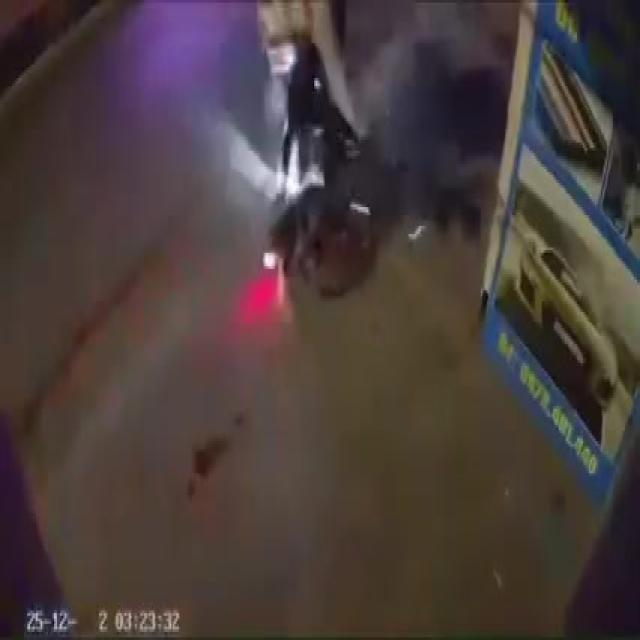single accident: (251, 0, 378, 329)
